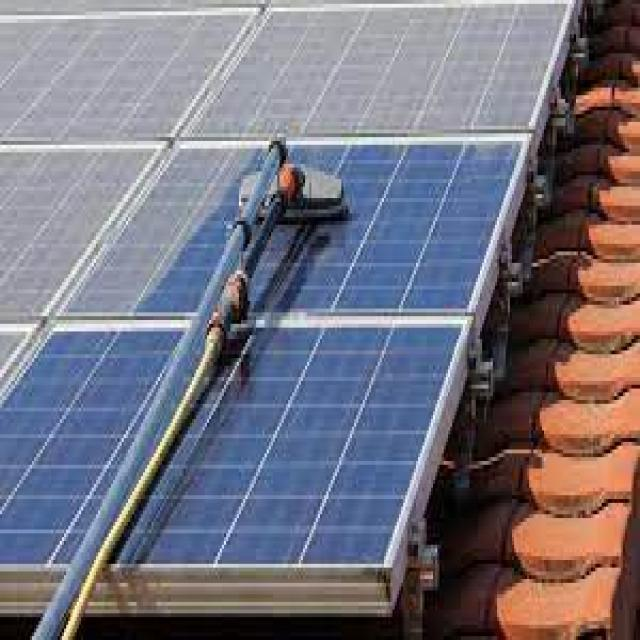clean-solar-panel: (0, 145, 525, 636)
dust-solar-panel: (0, 4, 574, 324)
